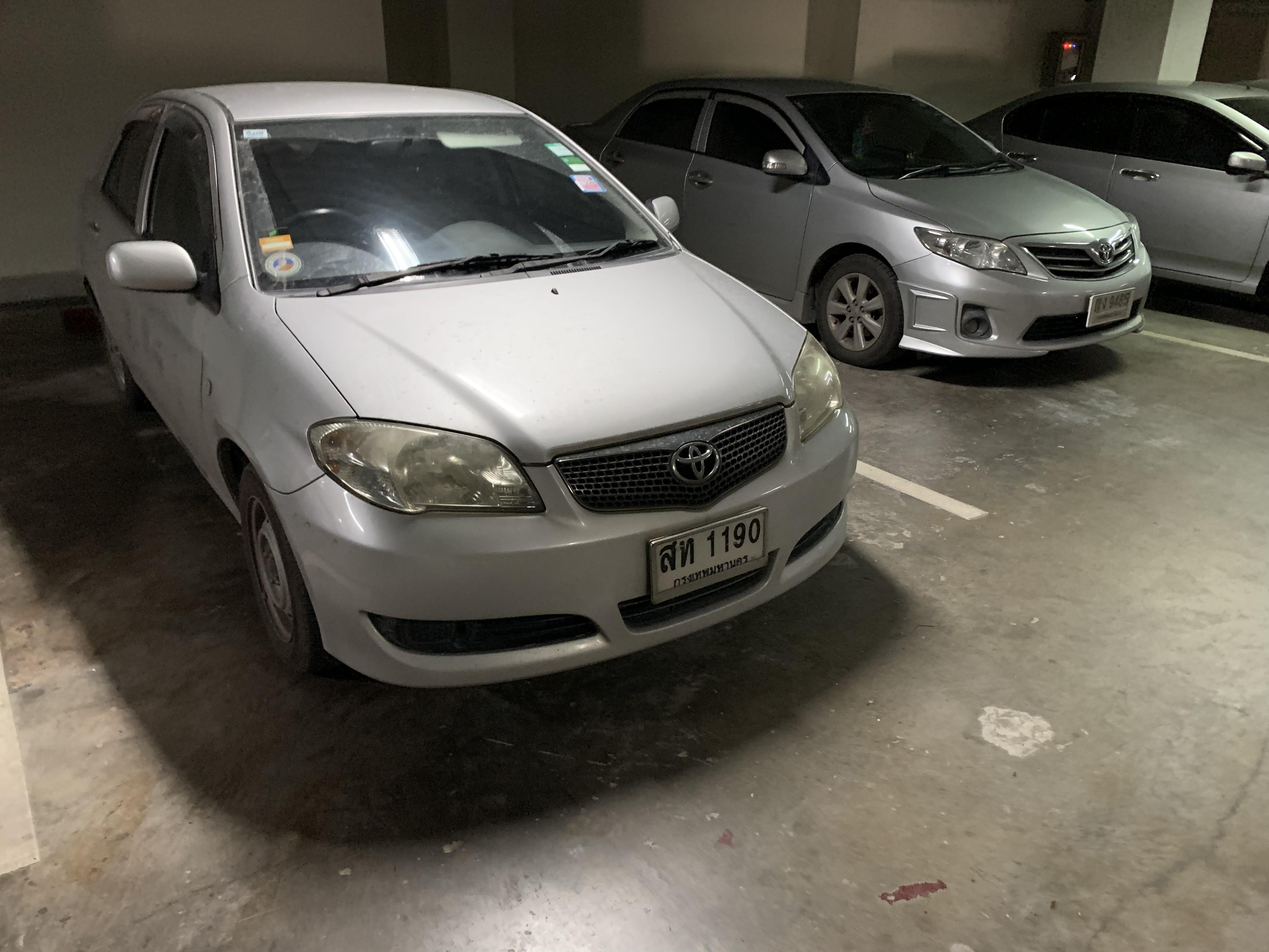license-plate: (643, 504, 772, 613)
